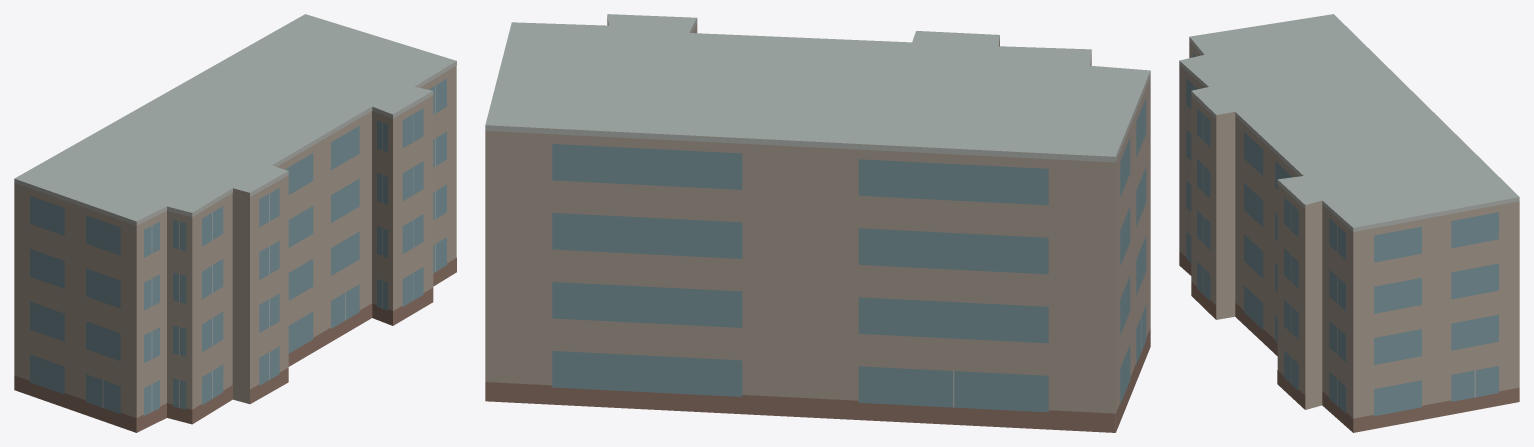
File: survey-upis-32642119.glb
3 views of the same model, side by side, from view 1: azimuth 30°, elevation 25°; view 2: azimuth 150°, elevation 25°; view 3: azimuth 270°, elevation 25° (orthographic). The views are drawn at different scales.
Visible parts, largest first — view 1: survey-upis-32642119.tmp; view 2: survey-upis-32642119.tmp; view 3: survey-upis-32642119.tmp.
Part boxes in pixels (left/top/right/bottom): survey-upis-32642119.tmp: left=14, top=14, right=456, bottom=432; survey-upis-32642119.tmp: left=485, top=14, right=1150, bottom=432; survey-upis-32642119.tmp: left=1179, top=14, right=1519, bottom=432.
Bounding box in the file's own units: 26.67 × 11.9 × 17.93.
